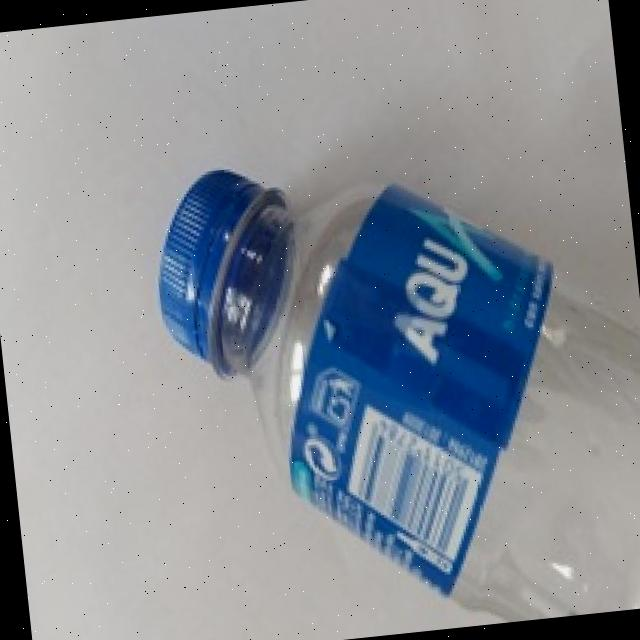bottle: (141, 127, 640, 640)
cap: (146, 166, 304, 384)
label: (266, 198, 558, 584)
